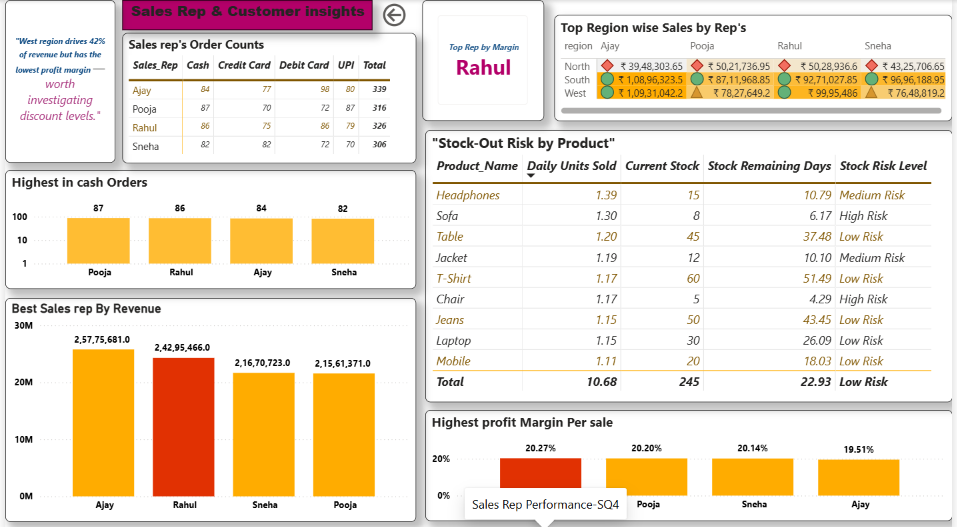

The dashboard page shown, as its layout file describes it:
{"tool":"powerbi","page":{"name":"Sales Rep Performance-SQ4","canvas":[1280,720],"ordinal":3},"visuals":[{"type":"columnChart","title":"Best Sales rep By Revenue","fields":{"Category":["fact_Sales.Sales_Rep"],"Y":["All Measures.Total_Revenue"]},"box":[0,402.7,555.6,302.4],"z":0},{"type":"actionButton","box":[505.5,0,100,40.6],"z":1000},{"type":"actionButton","title":"Sales Rep & Customer insights","box":[158.2,0,337.9,40.6],"z":3000},{"type":"textbox","box":[0,0,148.7,220.3],"z":4000},{"type":"columnChart","title":"Highest profit Margin Per sale","fields":{"Category":["fact_Sales.Sales_Rep"],"Y":["All Measures.vg Profit Margin per Sale"]},"box":[567.7,554.2,712.4,150],"z":5000},{"type":"pivotTable","title":"Top Region wise Sales by Rep''s","fields":{"Rows":["fact_Sales.region"],"Columns":["dim_SalesRep.Sales_Rep"],"Values":["All Measures.Total Sales"]},"box":[742.1,20.3,538,143.3],"z":6000},{"type":"pivotTable","title":"Sales rep''s Order Counts","fields":{"Rows":["dim_SalesRep.Sales_Rep"],"Columns":["dim_Payment_method.Payment_Method"],"Values":["All Measures.Total_Orders"]},"box":[158.2,44.6,397.4,175.7],"z":7000},{"type":"tableEx","title":"\"Stock-Out Risk by Product\"","fields":{"Values":["dim_Product.Product_Name","All Measures.Avg Daily Units Sold","Sum(Stock_level1.Current_Stock)","All Measures.Days of Stock Remaining","All Measures.Stock Risk Level"]},"box":[567.7,175.7,712.4,367.7],"z":8000},{"type":"cardVisual","fields":{"Data":["All Measures.Top Rep by Margin"]},"box":[563.7,0,164.9,163.6],"z":9000},{"type":"columnChart","title":"Highest in cash Orders","fields":{"Category":["fact_Sales.Sales_Rep"],"Series":["dim_Payment_method.Payment_Method"],"Y":["All Measures.Orders Per Customer"]},"box":[0,229.8,555.6,160.9],"z":10000}]}

Visuals, with their boxes in screenshot pixels (x1, y1, x2, y2), scaled from the page's 1280x720 canvas onto the 957x527 screenshot:
"Best Sales rep By Revenue" columnChart: crop(0, 295, 415, 516)
actionButton: crop(378, 0, 453, 30)
"Sales Rep & Customer insights" actionButton: crop(118, 0, 371, 30)
textbox: crop(0, 0, 111, 161)
"Highest profit Margin Per sale" columnChart: crop(424, 406, 956, 515)
"Top Region wise Sales by Rep''s" pivotTable: crop(555, 15, 956, 120)
"Sales rep''s Order Counts" pivotTable: crop(118, 33, 415, 161)
""Stock-Out Risk by Product"" tableEx: crop(424, 129, 956, 398)
cardVisual - All Measures.Top Rep by Margin: crop(421, 0, 545, 120)
"Highest in cash Orders" columnChart: crop(0, 168, 415, 286)
